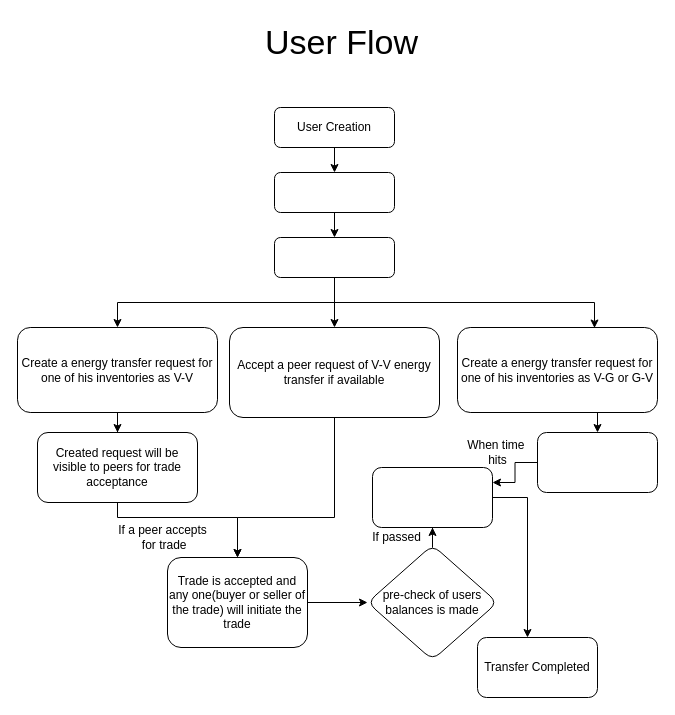
Image size: 675x715. Some labels were removed from this diagram. Here are the shapes that lost their labels. From the top down, the centre of each, then its label:
point 334,192: User Authentication and Authorisation
point 334,257: Add car inventory to user profile
point 597,462: Schedule a cron job for its initiation
point 432,497: Initiation of transaction is made
